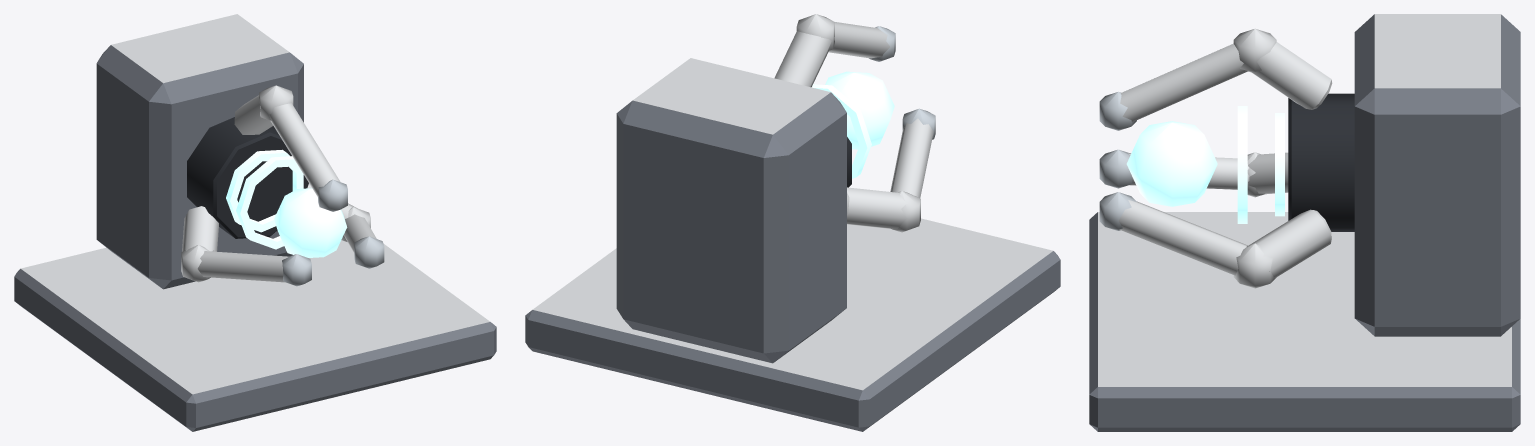
The model's file is R4X_DirectionalEMP_LOD1.fbx.
The picture shows the model from 3 angles, left to right: view 1: azimuth 30°, elevation 25°; view 2: azimuth 150°, elevation 25°; view 3: azimuth 270°, elevation 25°; orthographic projection. The views are drawn at different scales.
Parts seen in each view (by area): view 1: R4X_DirectionalEMP_LOD1; view 2: R4X_DirectionalEMP_LOD1; view 3: R4X_DirectionalEMP_LOD1.
Part boxes in pixels (x1,y1,x2,y2): R4X_DirectionalEMP_LOD1: (14,14,496,431); R4X_DirectionalEMP_LOD1: (525,14,1060,431); R4X_DirectionalEMP_LOD1: (1089,14,1520,431).
Size of the model in its own units: 0.52 by 0.42 by 0.52.
